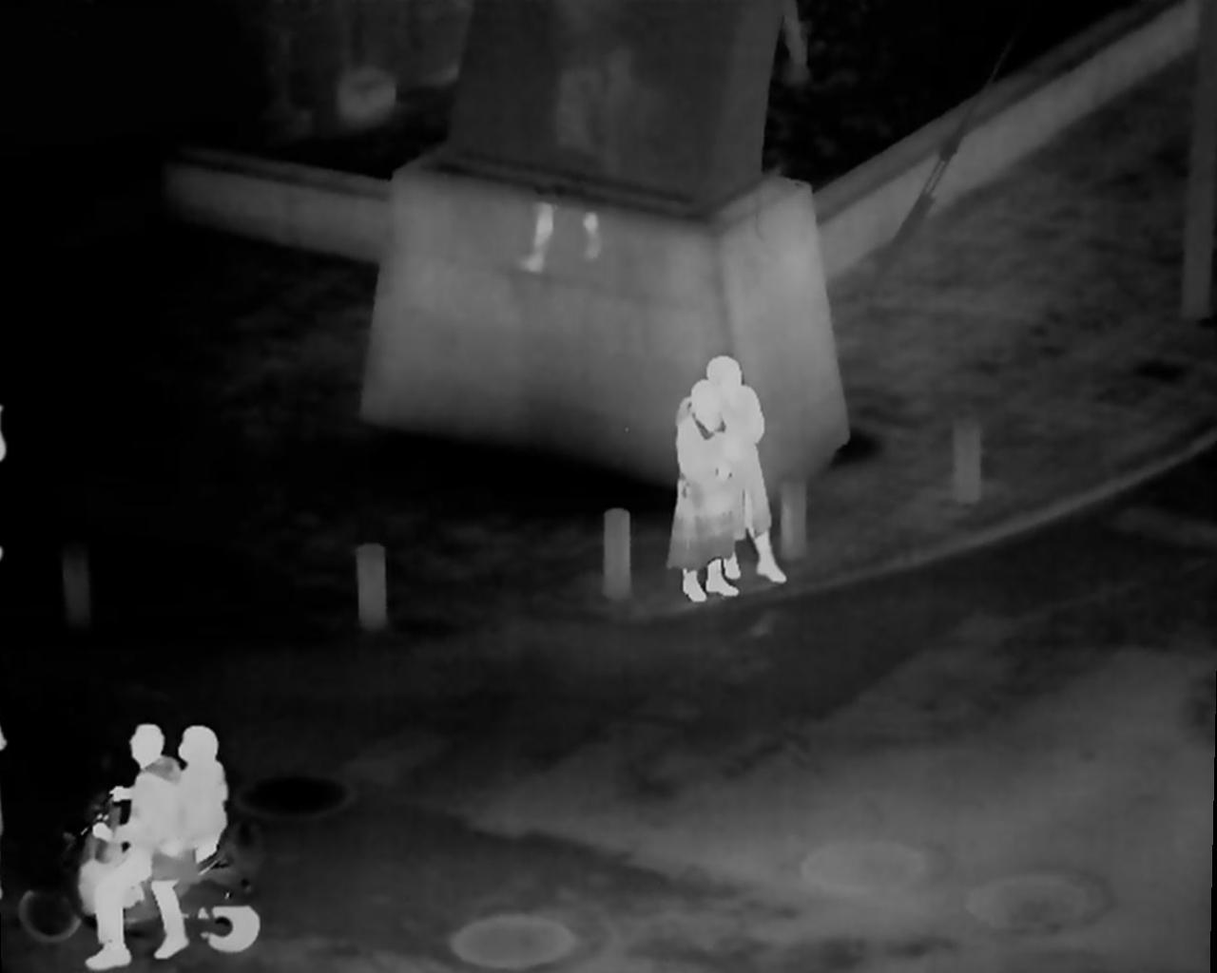person: (80, 726, 180, 968), (703, 354, 787, 591), (154, 717, 227, 959), (671, 383, 736, 603)
